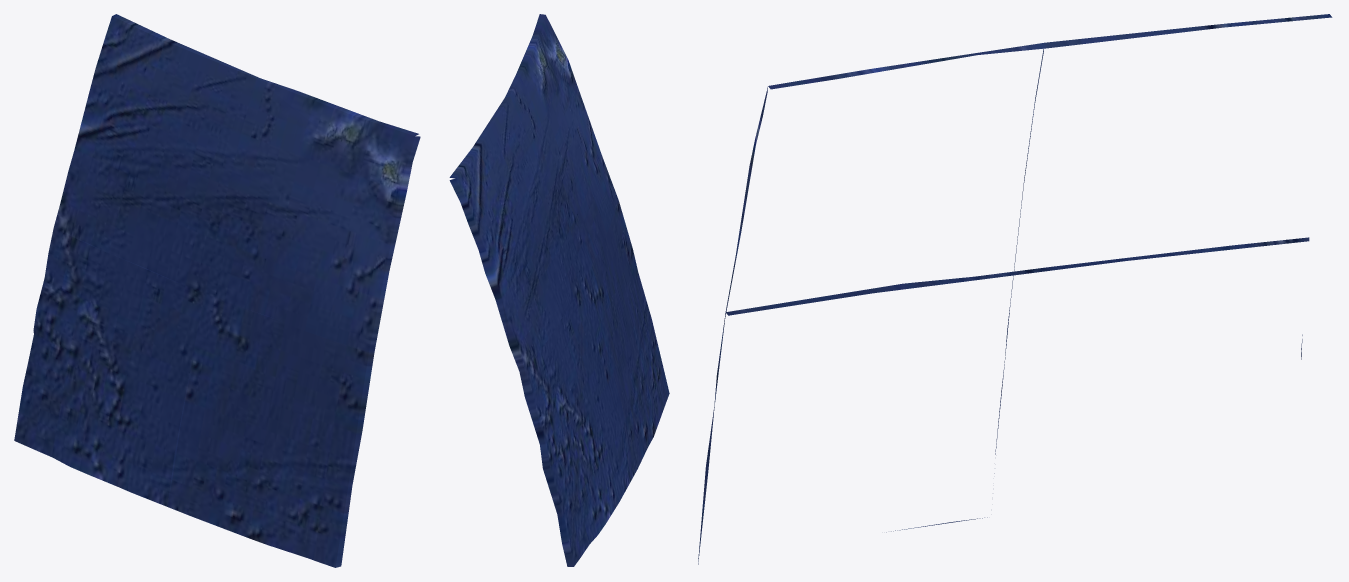
3 views of the same model, side by side, from view 1: azimuth 30°, elevation 25°; view 2: azimuth 150°, elevation 25°; view 3: azimuth 270°, elevation 25° (orthographic). The views are drawn at different scales.
Bounding box in the file's own units: 710336 × 1206855 × 1256992.
Materials: 1 (1 with a texture image).
